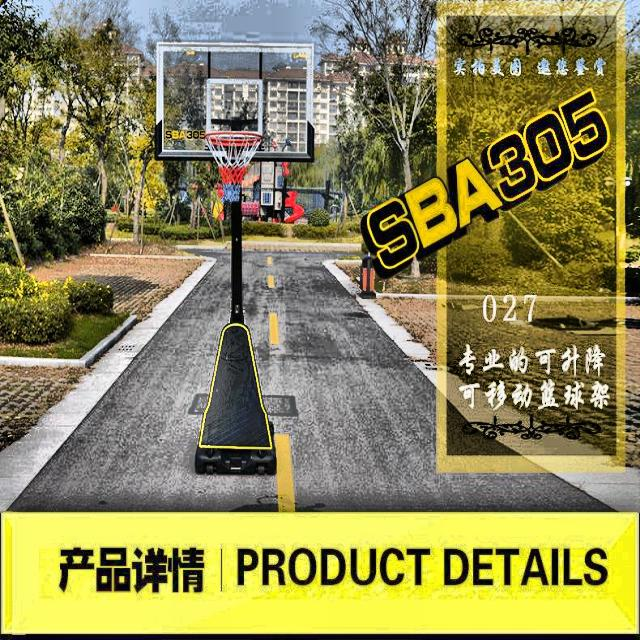rim: (202, 130, 265, 204)
